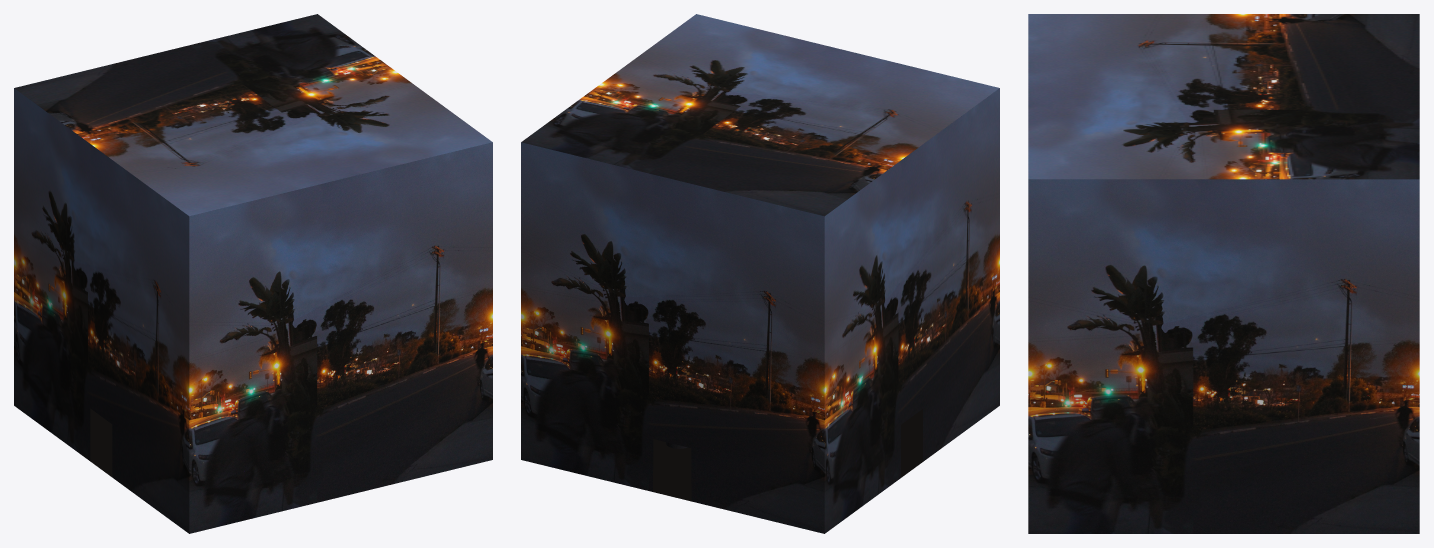
Rendered from Dark_Photo_Rm.fbx.
The picture shows the model from 3 angles, left to right: view 1: azimuth 30°, elevation 25°; view 2: azimuth 150°, elevation 25°; view 3: azimuth 270°, elevation 25°; orthographic projection. The views are drawn at different scales.
Visible parts, largest first — view 1: P_Dark_Photo_Rm; view 2: P_Dark_Photo_Rm; view 3: P_Dark_Photo_Rm.
Boxes of the visible parts, left/top/right/bottom form: P_Dark_Photo_Rm: left=14, top=14, right=492, bottom=533; P_Dark_Photo_Rm: left=521, top=14, right=999, bottom=533; P_Dark_Photo_Rm: left=1028, top=14, right=1419, bottom=533.
Size of the model in its own units: 27.81 by 27.9 by 27.81.
